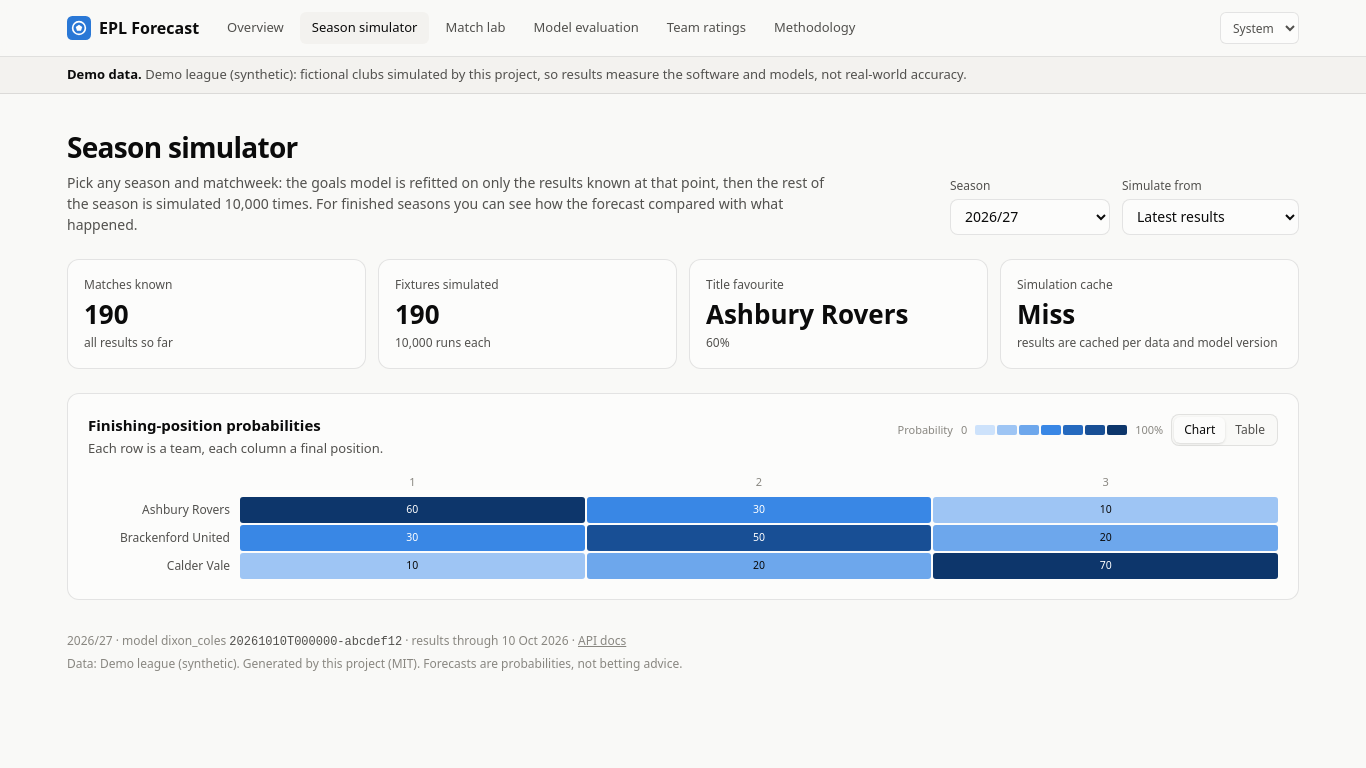
season simulator › replays a finished season from matchweek 20 and marks actual finishes
The width and height of the screenshot is (1366, 768).
Select "2025/26" in the dropdown labelled "Season": coordinates (1030, 216) [950,198,1110,234]
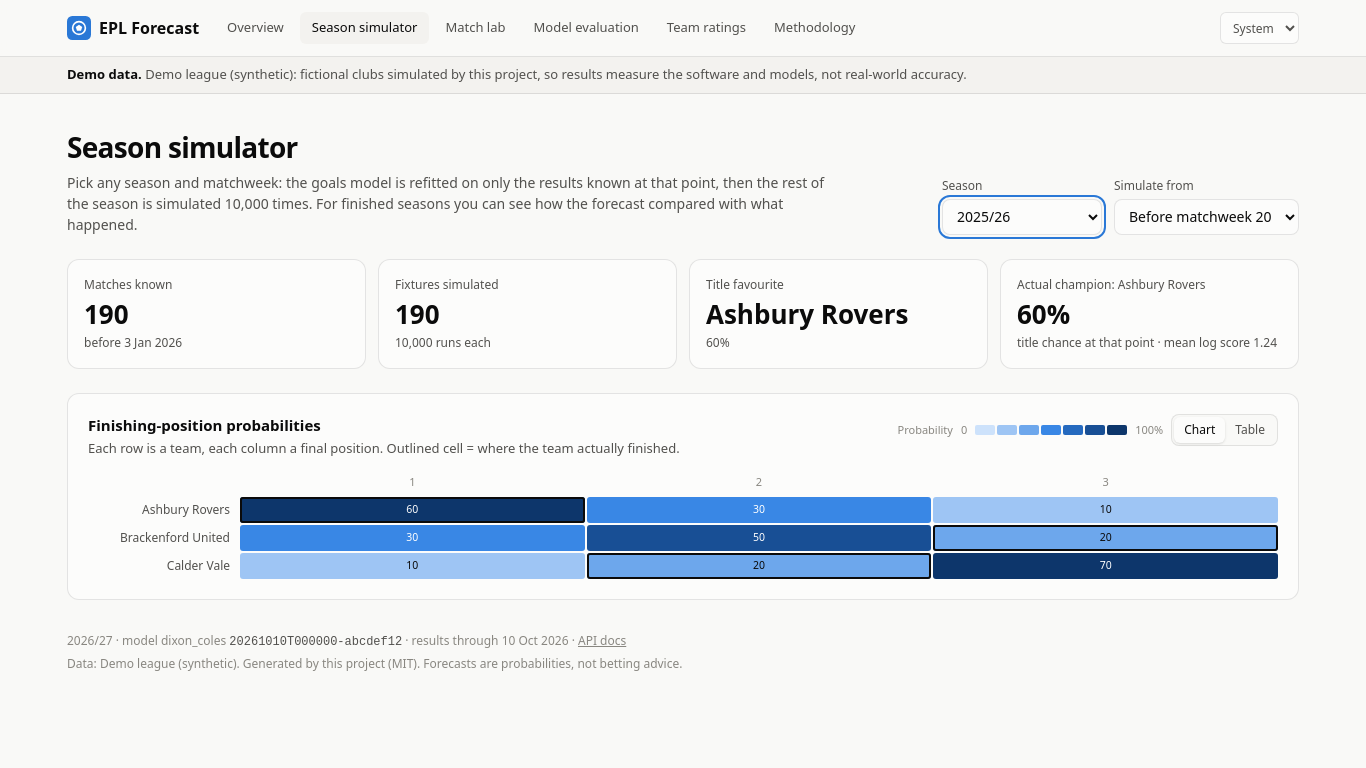
Now the text "Outlined cell = where the team actually finished" is shown, box [88,438,680,456]
Now the text "Actual champion: Ashbury Rovers" is shown, box [1017,276,1206,292]
